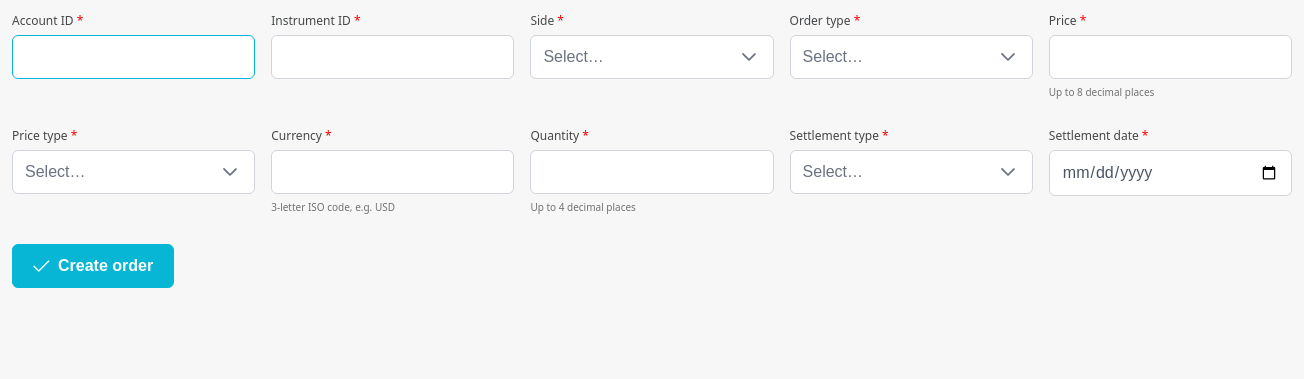
Test case: OrderForm › rejects an over-precise quantity (no silent rounding)
In the field labelled "Quantity": coordinates (652, 172) [530,150,774,194], type "1.123456"
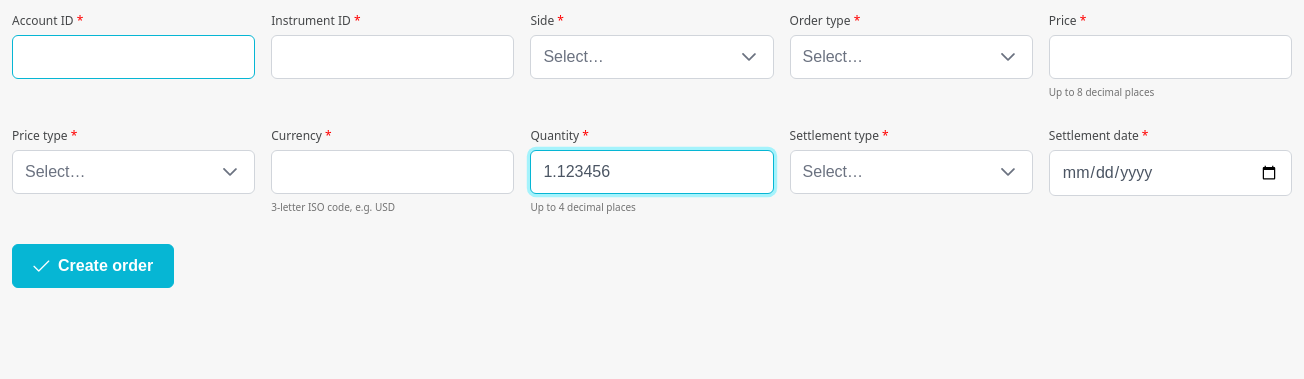
Click the button "Create order": coordinates (93, 266) [12,244,174,288]
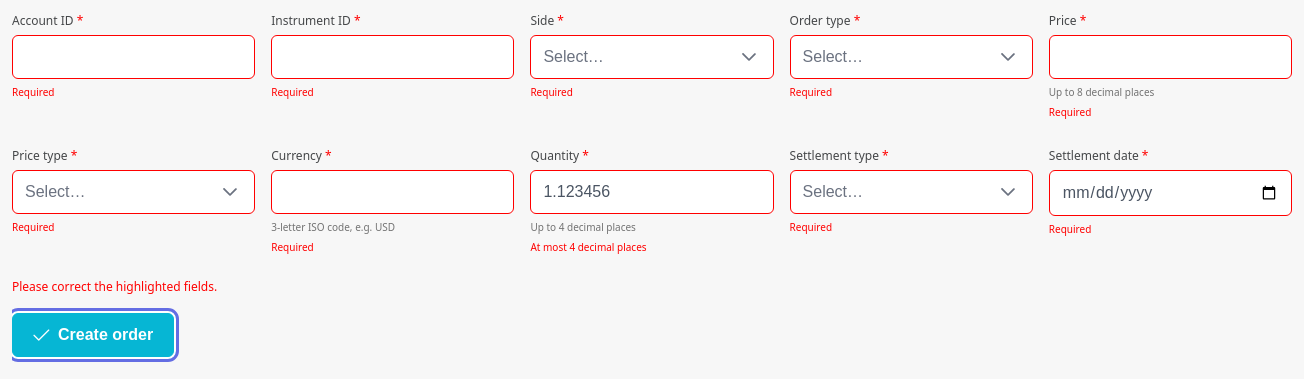
Check: the text "At most 4 decimal places" is shown, box [530,240,647,254]
